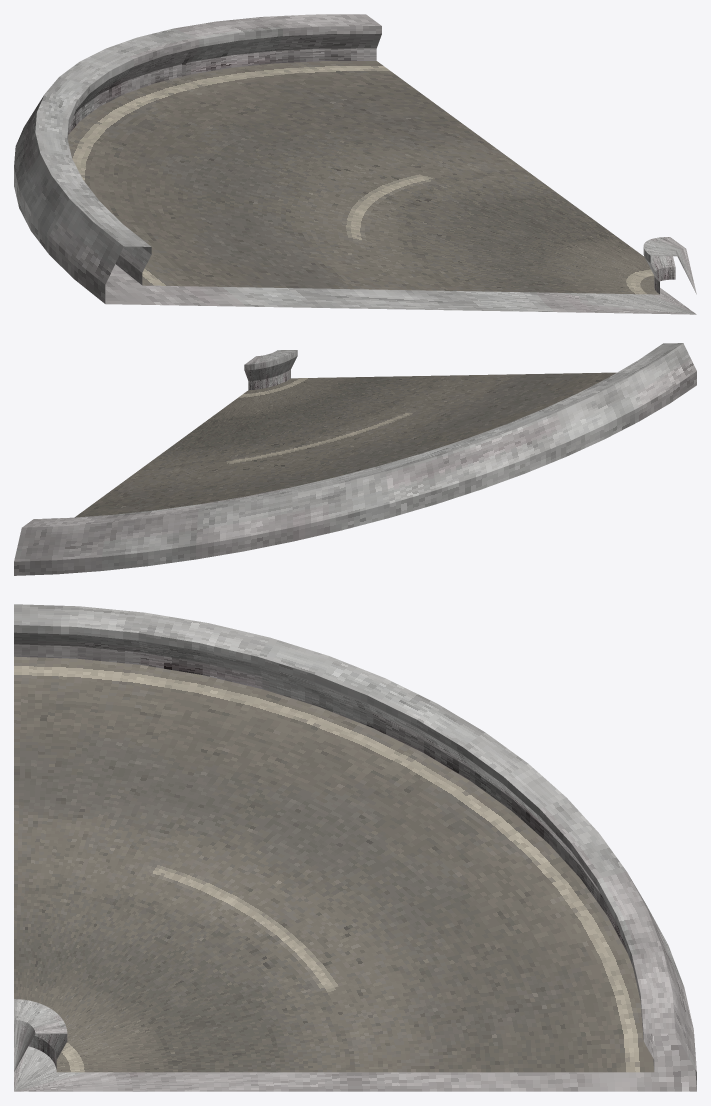
The model's file is road-Turn-HalfBankedRight-BiSlopeDown-Even-Right-Size1.glb.
3 renders of one model, top to bottom at view 1: azimuth 30°, elevation 25°; view 2: azimuth 150°, elevation 25°; view 3: azimuth 270°, elevation 25°, orthographic. The views are drawn at different scales.
Parts seen in each view (by area): view 1: road-Turn-HalfBankedRight-BiSlopeDown-Even-Right-Size1; view 2: road-Turn-HalfBankedRight-BiSlopeDown-Even-Right-Size1; view 3: road-Turn-HalfBankedRight-BiSlopeDown-Even-Right-Size1.
Boxes of the visible parts, bbox=[...] form: road-Turn-HalfBankedRight-BiSlopeDown-Even-Right-Size1: bbox=[14, 14, 696, 314]; road-Turn-HalfBankedRight-BiSlopeDown-Even-Right-Size1: bbox=[14, 343, 696, 575]; road-Turn-HalfBankedRight-BiSlopeDown-Even-Right-Size1: bbox=[14, 604, 696, 1091].
Size of the model in its own units: 1 by 0.3359 by 1.
2 materials, 2 textured.
